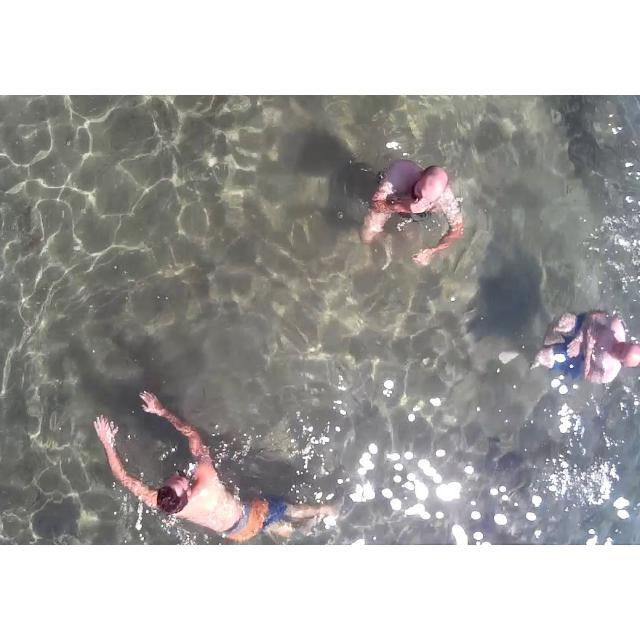human: (358, 141, 469, 274), (544, 281, 637, 401)
